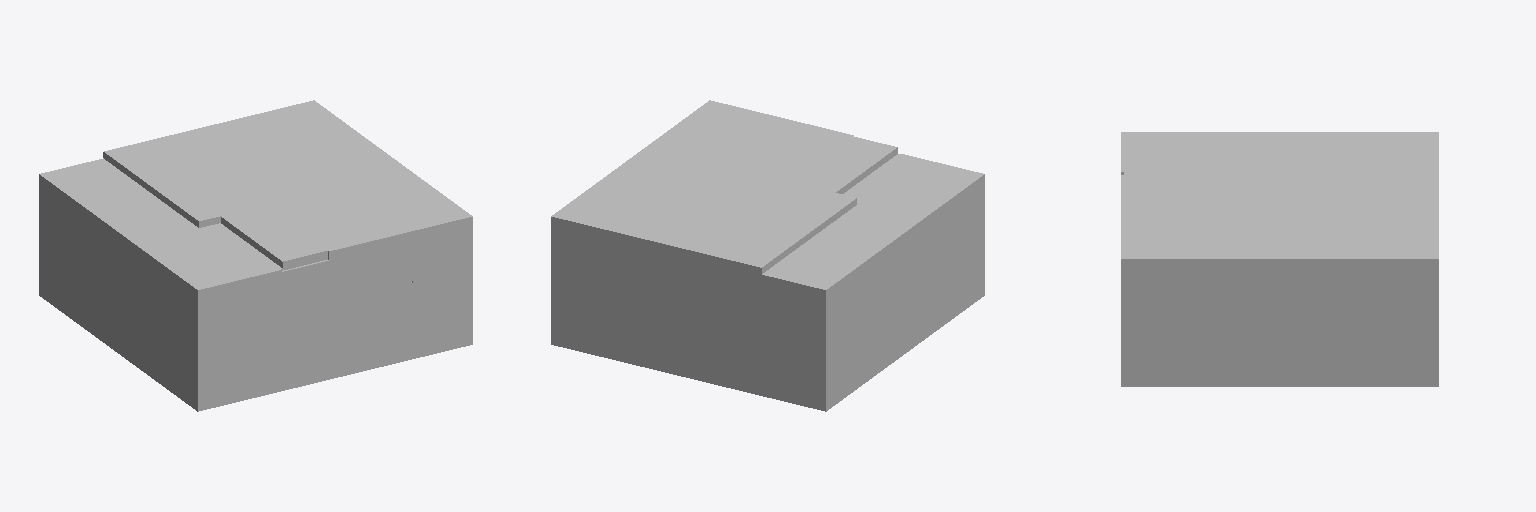
Rendered from Sunkeny City -  Voxel Desert-10-water 1.obj.
3 views of the same model, side by side, from view 1: azimuth 30°, elevation 25°; view 2: azimuth 150°, elevation 25°; view 3: azimuth 270°, elevation 25° (orthographic).
Visible parts, largest first — view 1: water 1; view 2: water 1; view 3: water 1.
Boxes of the visible parts, x1=… form: water 1: x1=39, y1=100, x2=472, y2=411; water 1: x1=551, y1=100, x2=984, y2=411; water 1: x1=1121, y1=132, x2=1438, y2=386.
Bounding box in the file's own units: 12.8 × 5.7 × 12.8.